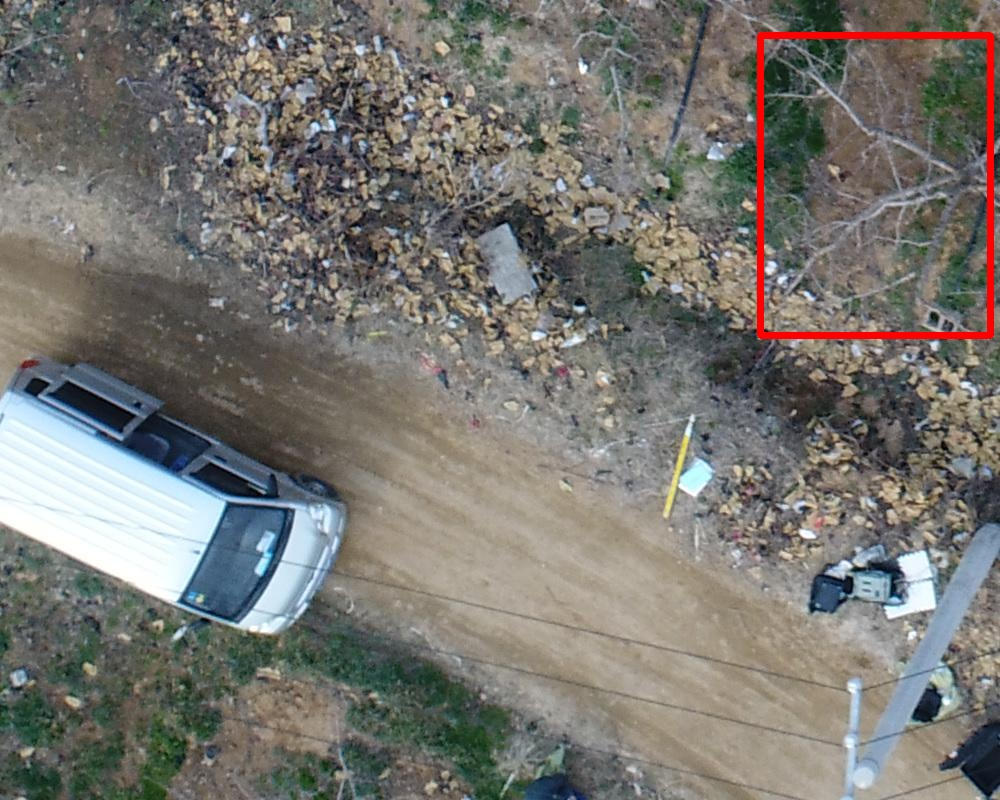apple: (760, 35, 990, 335)
